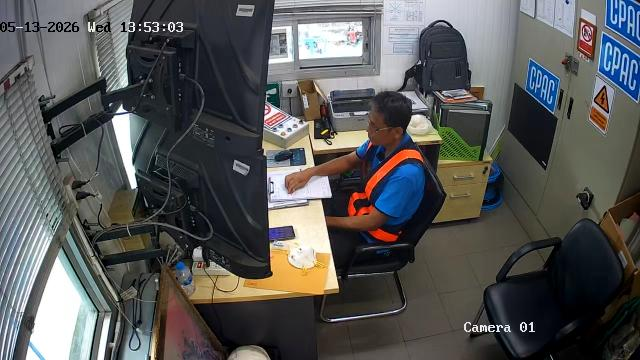Head: (368, 91, 411, 146)
People: (285, 92, 425, 254)
Phone: (269, 226, 295, 241)
